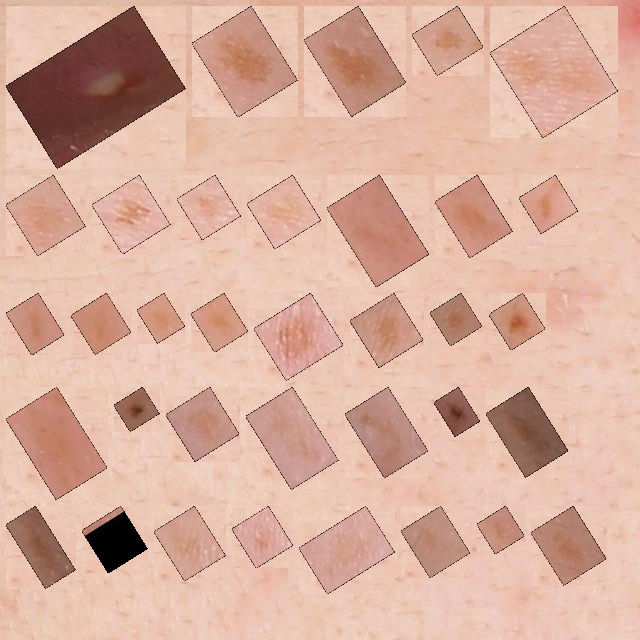melasma: (501, 17, 607, 126), (203, 17, 286, 106), (338, 186, 418, 276), (17, 398, 96, 488), (315, 17, 395, 105), (257, 398, 327, 478), (310, 517, 384, 583), (265, 304, 332, 369), (356, 398, 417, 467), (497, 398, 557, 466), (17, 186, 74, 245), (446, 186, 501, 246), (103, 186, 159, 243), (542, 517, 595, 574), (17, 517, 64, 577), (258, 186, 310, 238), (361, 304, 412, 356), (177, 398, 228, 450), (165, 517, 214, 570), (412, 517, 459, 567), (423, 17, 472, 64), (188, 186, 230, 229), (243, 517, 282, 557), (82, 304, 120, 343), (17, 304, 53, 344), (530, 186, 567, 222), (202, 304, 237, 341), (500, 304, 534, 339), (441, 304, 471, 335), (148, 304, 174, 332), (488, 517, 513, 543)
nevus: (445, 398, 469, 425), (125, 398, 148, 420)
pustule: (17, 17, 174, 157)
